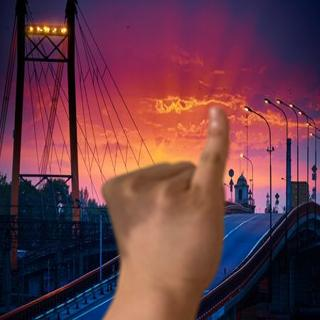FINE: (94, 102, 237, 297)
